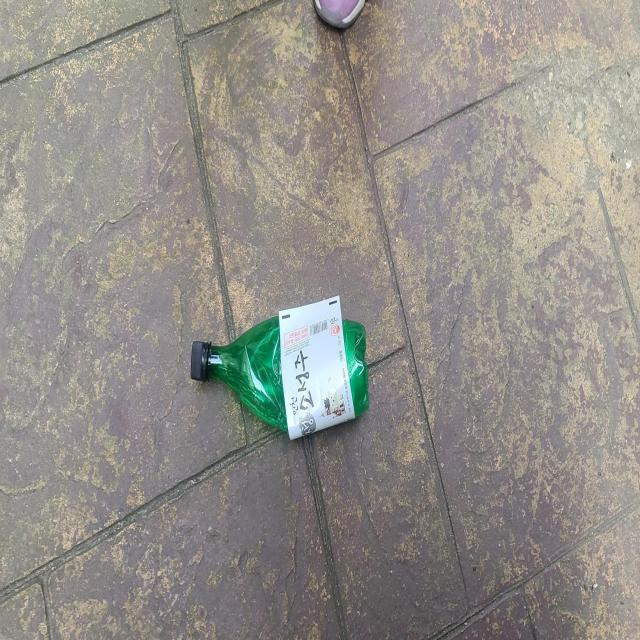plastic: (191, 295, 369, 439)
